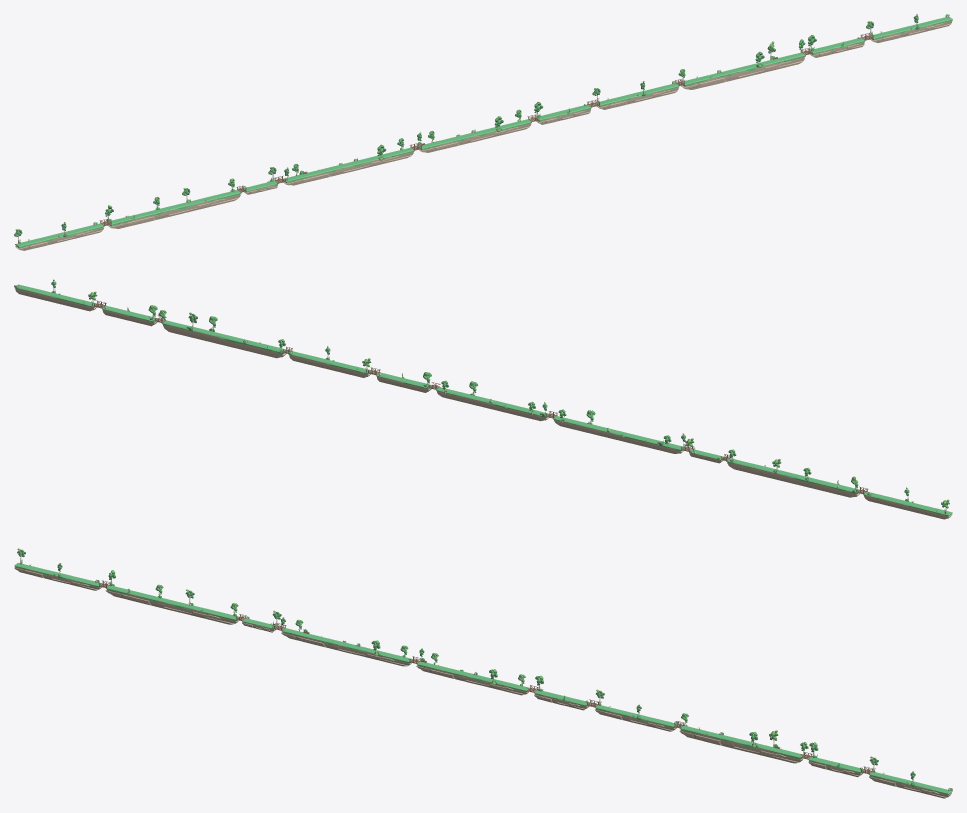
File: Park_Map_lvl_8_LANG.fbx
3 renders of one model, top to bottom at view 1: azimuth 30°, elevation 25°; view 2: azimuth 150°, elevation 25°; view 3: azimuth 330°, elevation 25°, orthographic.
Parts seen in each view (by area): view 1: polySurface2187; view 2: polySurface2187; view 3: polySurface2187.
Part boxes in pixels (left/top/right/bottom): polySurface2187: left=14, top=14, right=952, bottom=250; polySurface2187: left=14, top=279, right=952, bottom=519; polySurface2187: left=14, top=548, right=952, bottom=798.
Bounding box in the file's own units: 1001 × 25.76 × 15.31.
